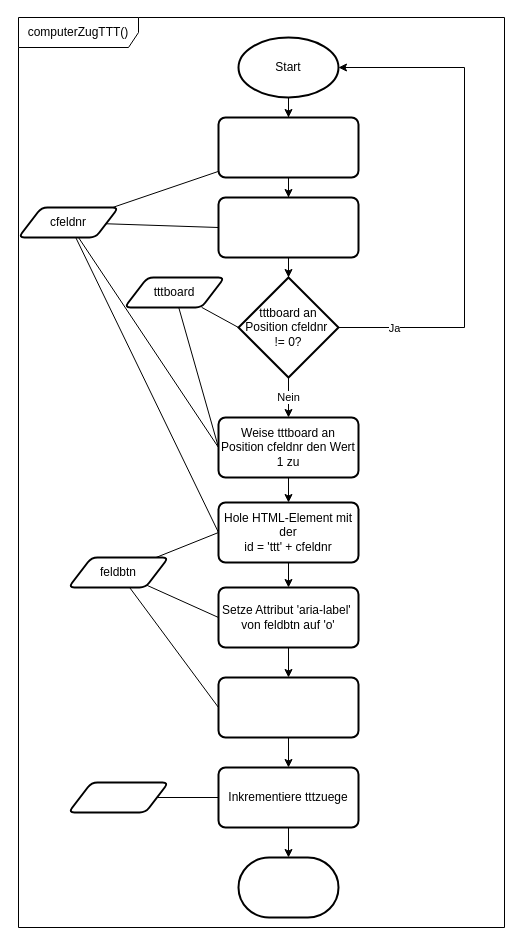
The diagram is 522 pixels wide and 945 high, and some of its shapes have lost their labels. The centre of each missing label's shape, as x and y in pixels:
"Deaktiviere feldbtn" goes at [288,707].
"Ende" goes at [288,887].
"Runde cfeldnr auf ganze Zahl" goes at [288,227].
"Speichere Zufallszahl zwischen 0 und 8 in cfeldnr" goes at [288,147].
"tttzuege" goes at [118,797].
